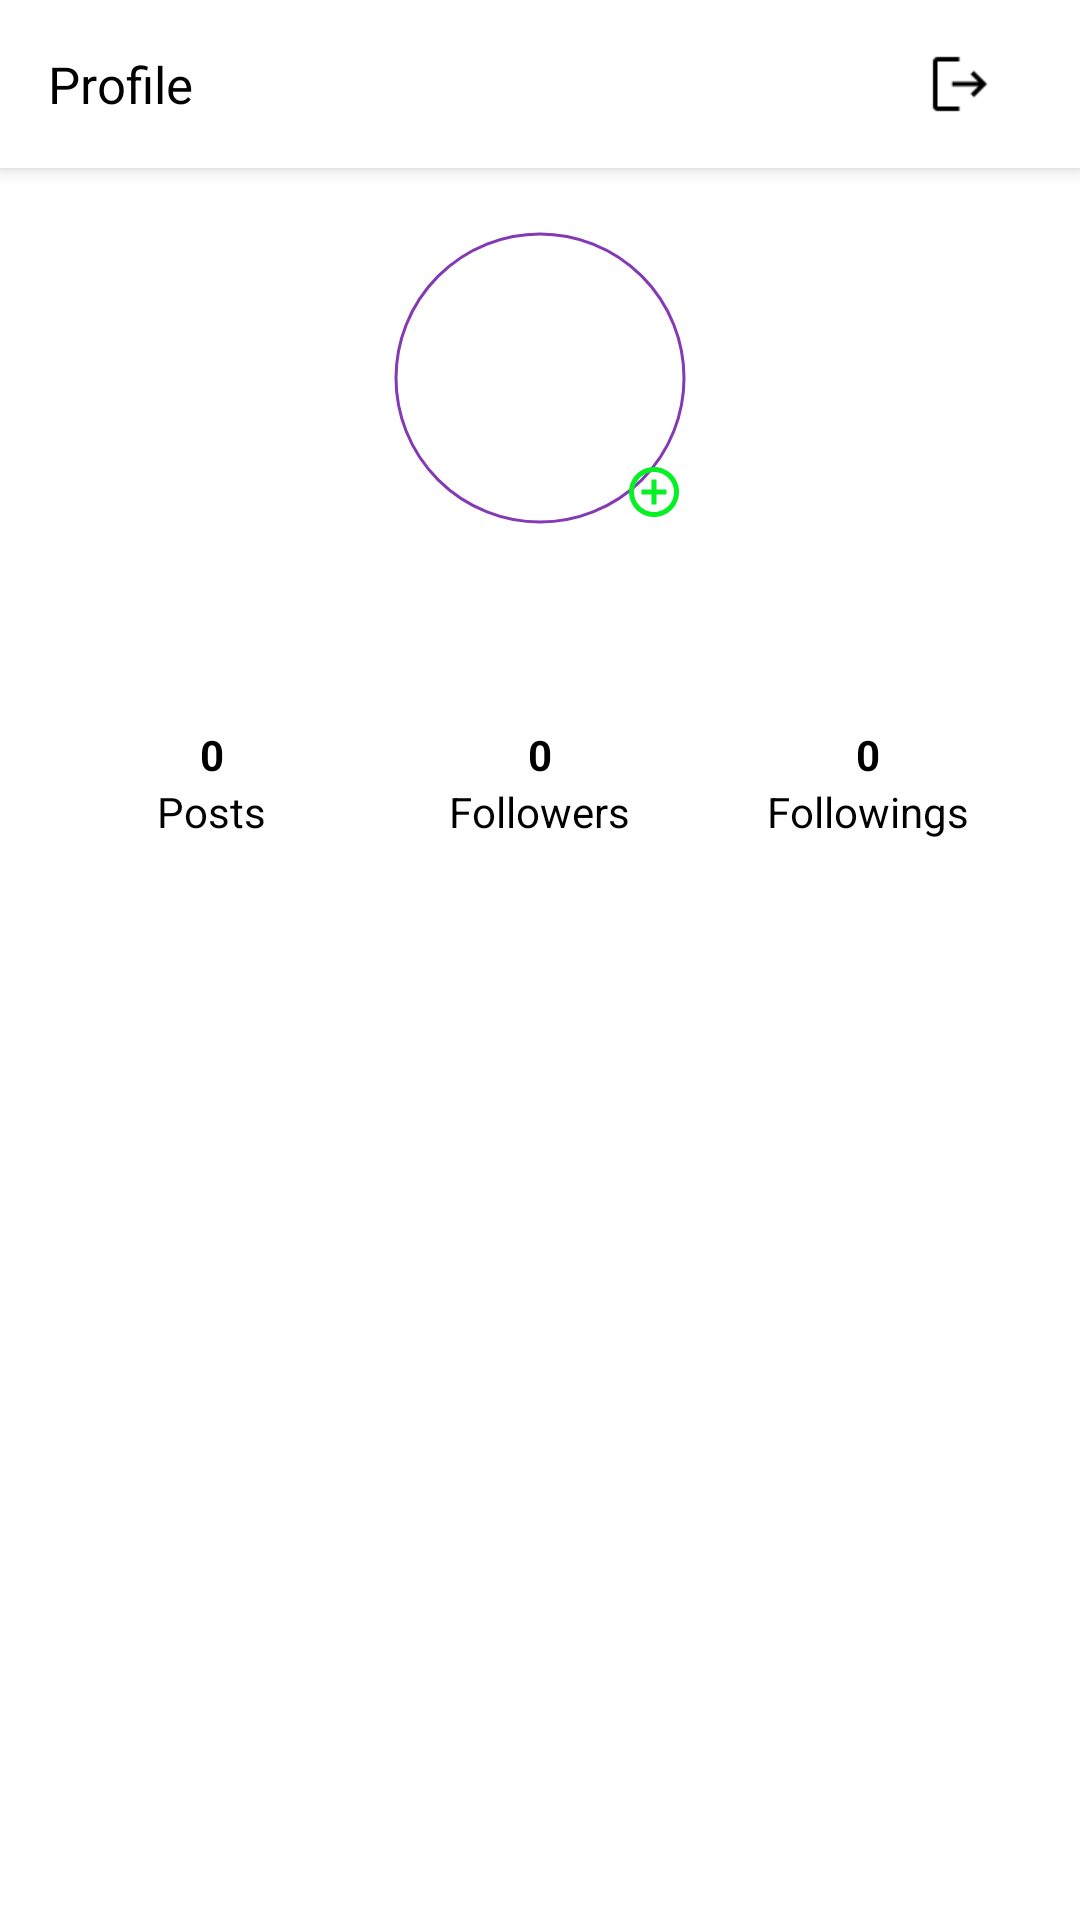

Where to tap for icons on this 1080px×1920px app screen, as (x=x, y=y):
plus: (x=651, y=489)
